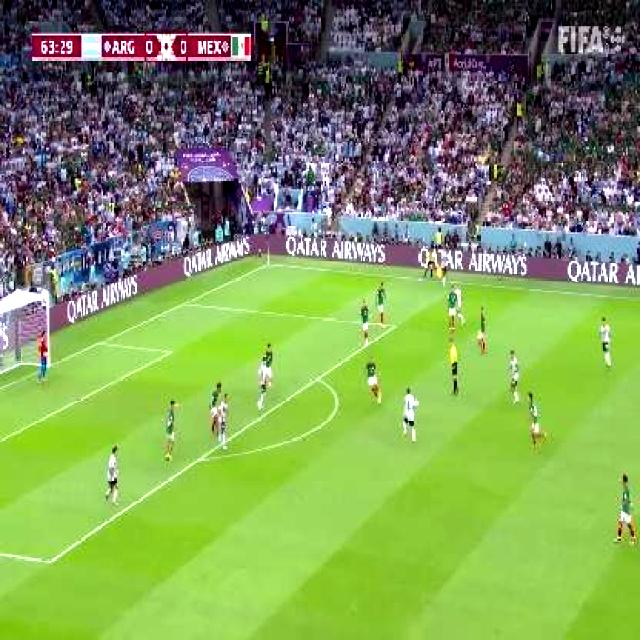bigarea_bottom_inner: (44, 552, 56, 570)
bigarea_top_inner: (388, 318, 395, 331)
bigarea_top_outter: (180, 298, 188, 308)
bottom_arc_area_intersection: (196, 452, 204, 465)
corner: (264, 260, 274, 268)
smallarea_top_inner: (164, 346, 173, 357)
smallarea_top_outter: (95, 337, 103, 348)
top_arc_area_intersection: (312, 370, 322, 384)
